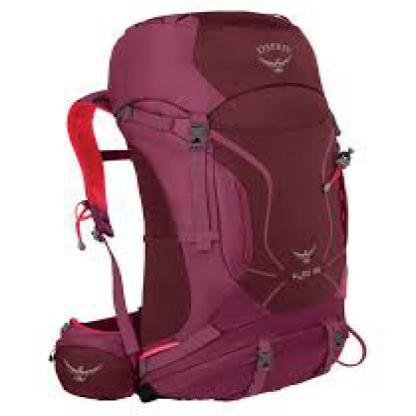morral: (34, 3, 390, 406)
